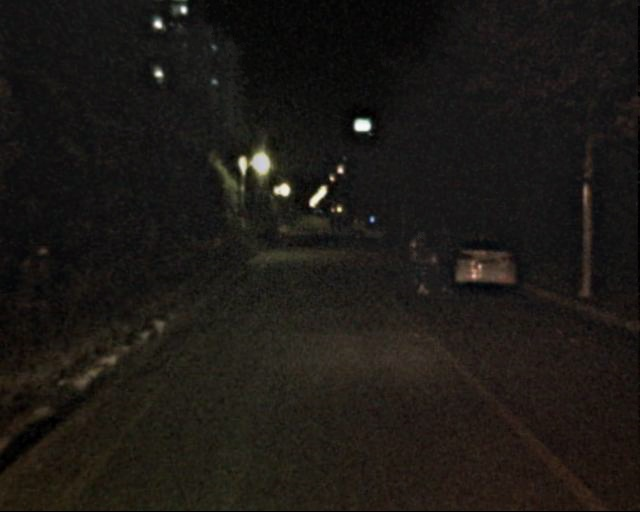person: (432, 223, 460, 292), (409, 231, 436, 296), (328, 217, 357, 242), (275, 216, 288, 248)
